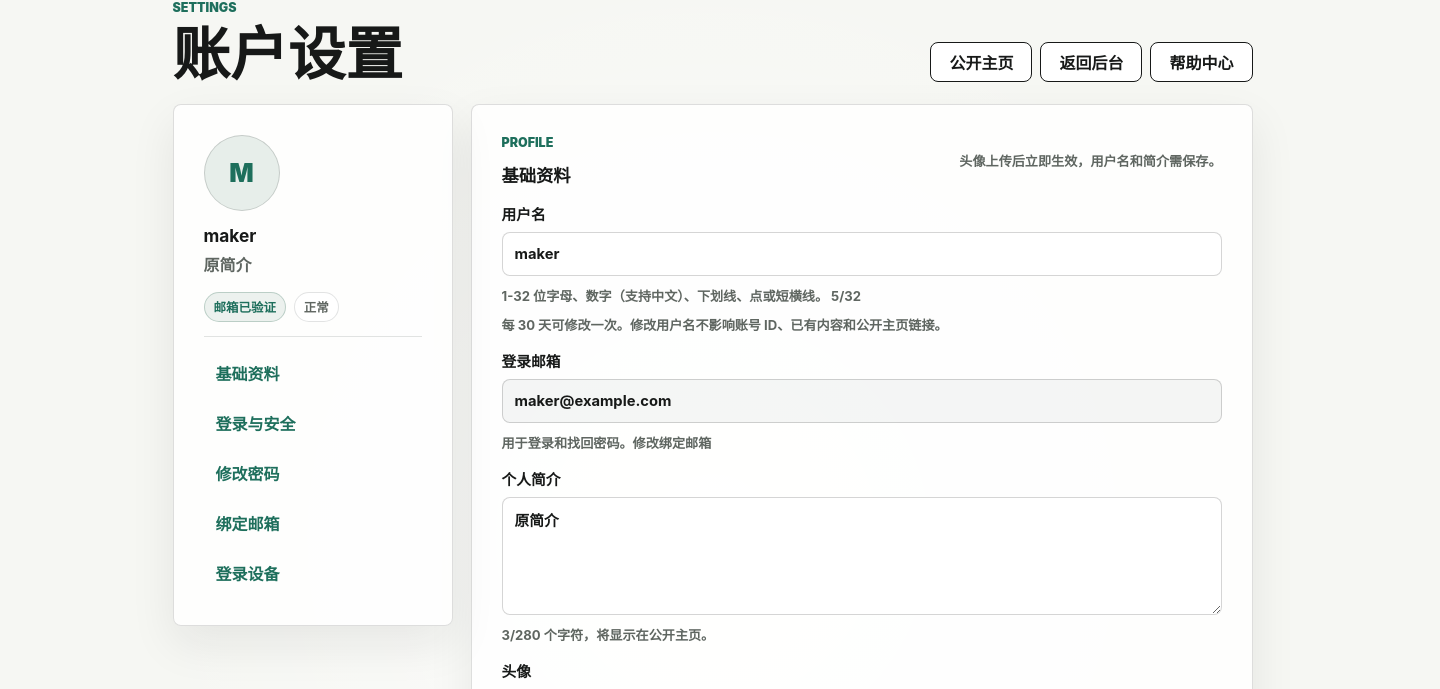
账号设置操作 › 非法用户名在字段旁提示且不请求后端
Replace the text in the field labelled "用户名" with "a/b": (862, 254) [502,232,1222,276]
(page scrolled)
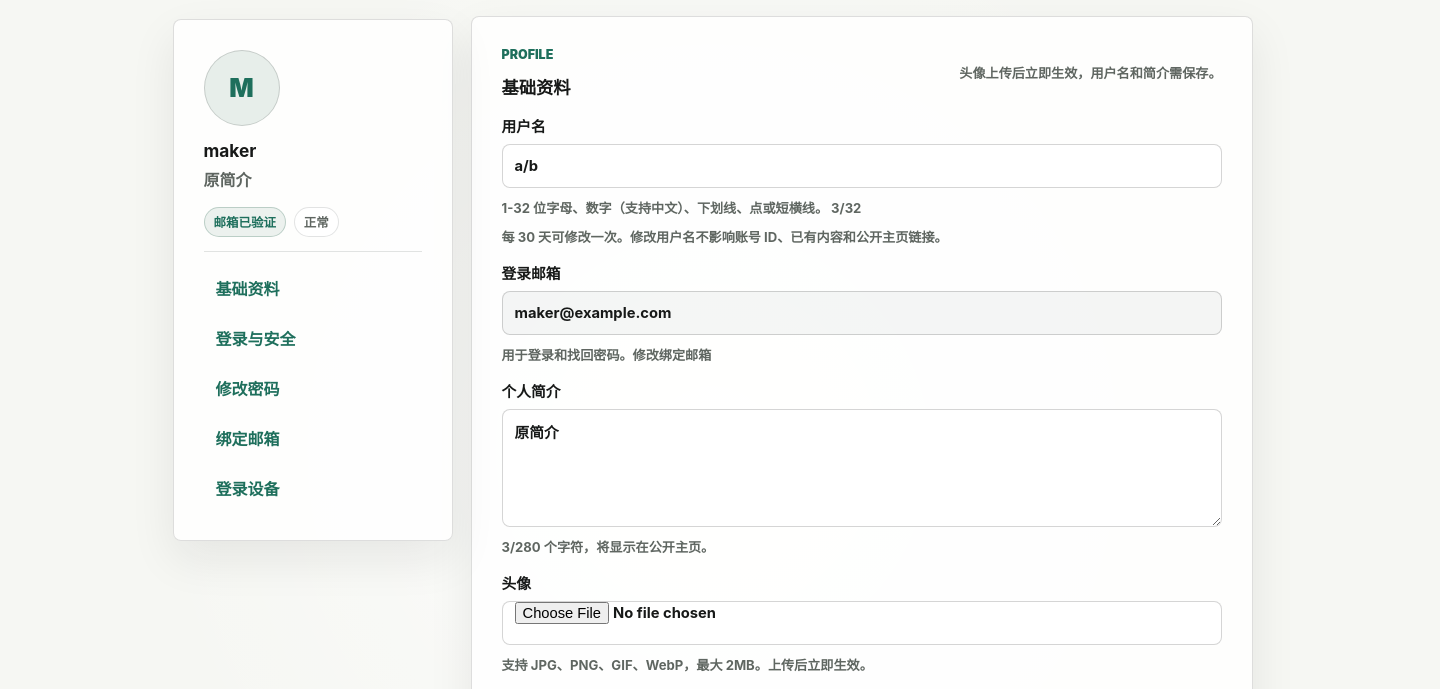
Submit the form with id "settings-profile"
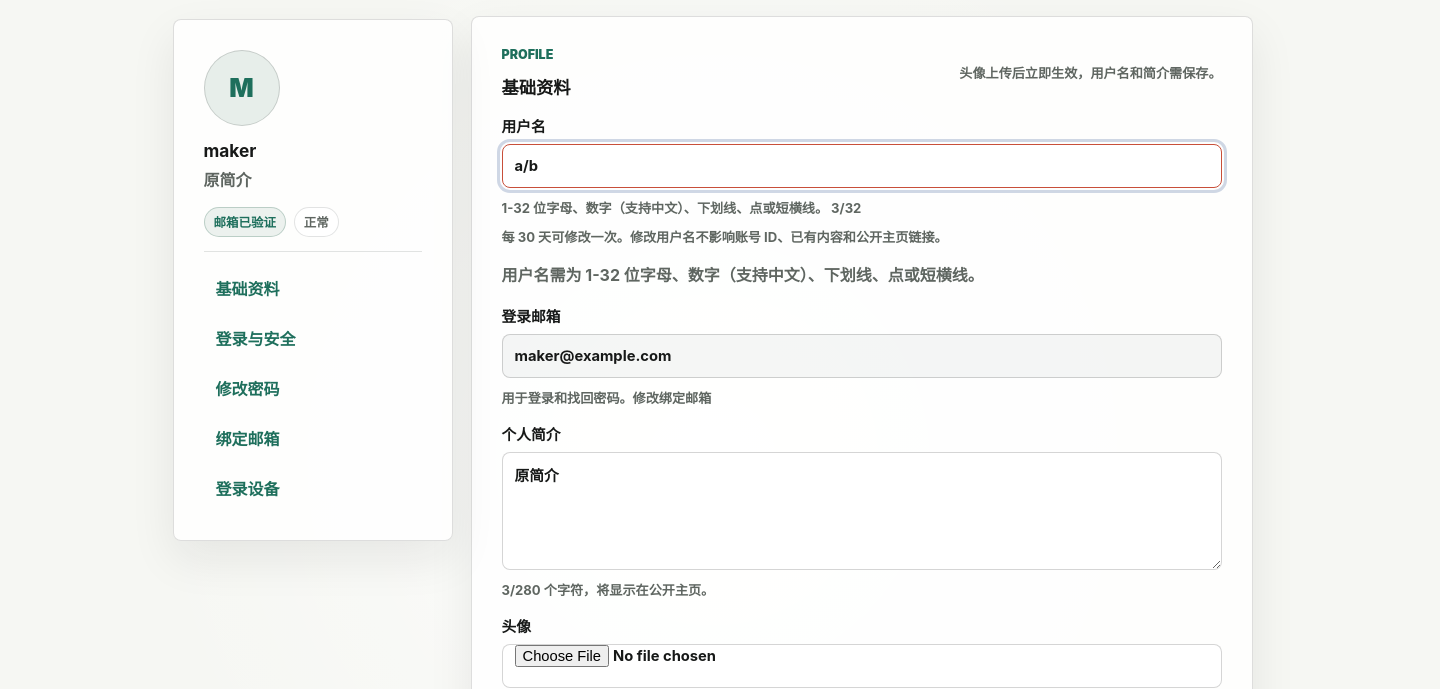
Result: the message with id "username-error" shows "1-32" at [502,265,984,285]
